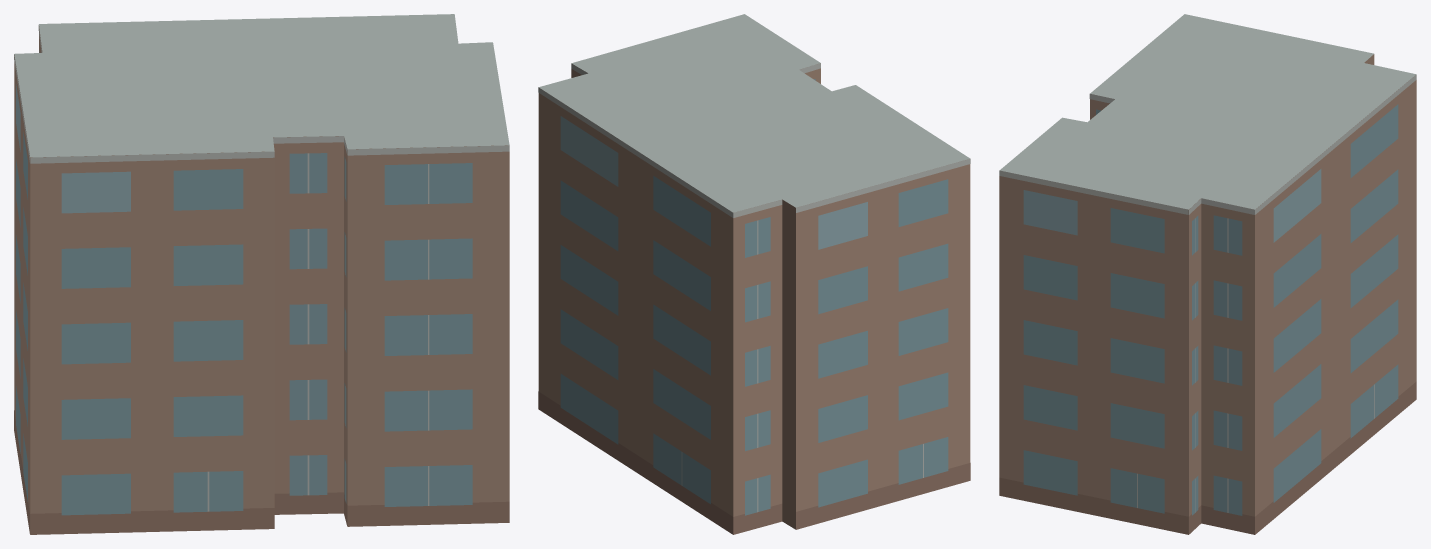
File: survey-upis-32886024.glb
The picture shows the model from 3 angles, left to right: view 1: azimuth 30°, elevation 25°; view 2: azimuth 150°, elevation 25°; view 3: azimuth 270°, elevation 25°; orthographic projection. The views are drawn at different scales.
Parts seen in each view (by area): view 1: survey-upis-32886024.tmp; view 2: survey-upis-32886024.tmp; view 3: survey-upis-32886024.tmp.
Boxes of the visible parts, x1,y1,x2,y2 form: survey-upis-32886024.tmp: [14, 14, 509, 534]; survey-upis-32886024.tmp: [538, 14, 970, 534]; survey-upis-32886024.tmp: [999, 14, 1416, 534].
Bounding box in the file's own units: 18.85 × 14.6 × 16.98.
